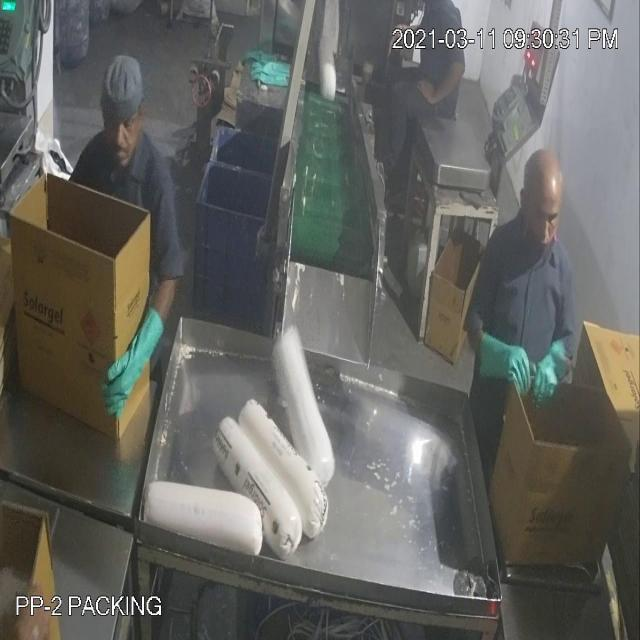No_Gloves: (49, 57, 550, 374)
